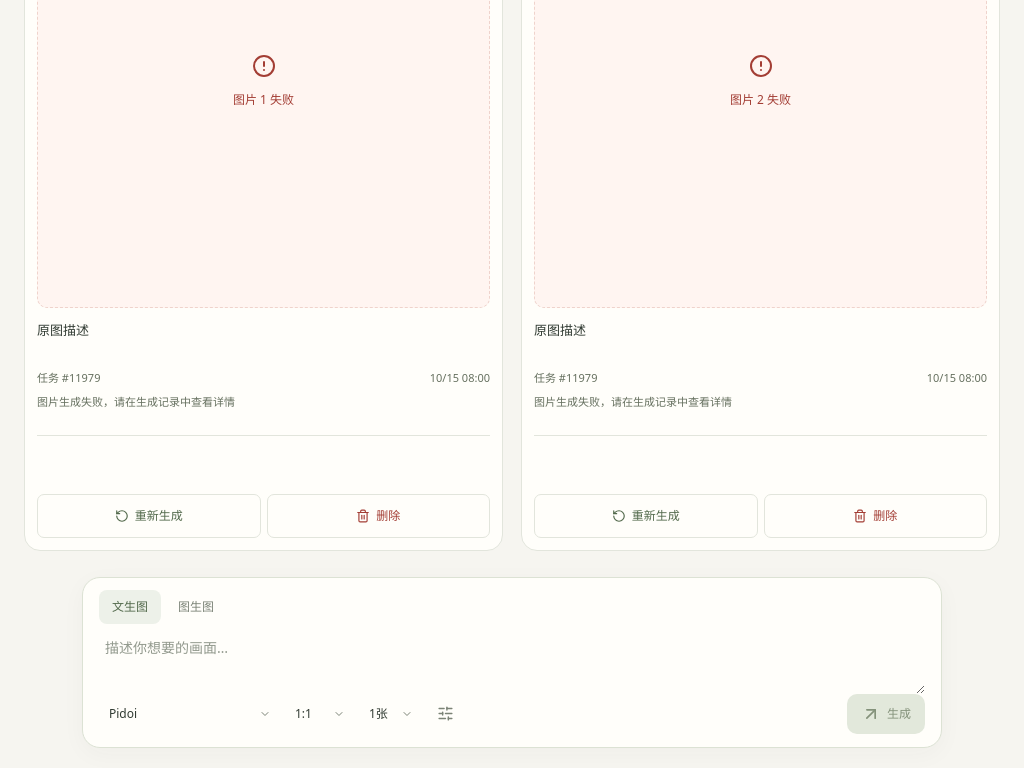
Test case: 图片记录操作 › removes deleted failures immediately and ignores an older list response
(page scrolled)
Click the 1st button "删除": (378, 516) [266,494,490,538]
(page scrolled)
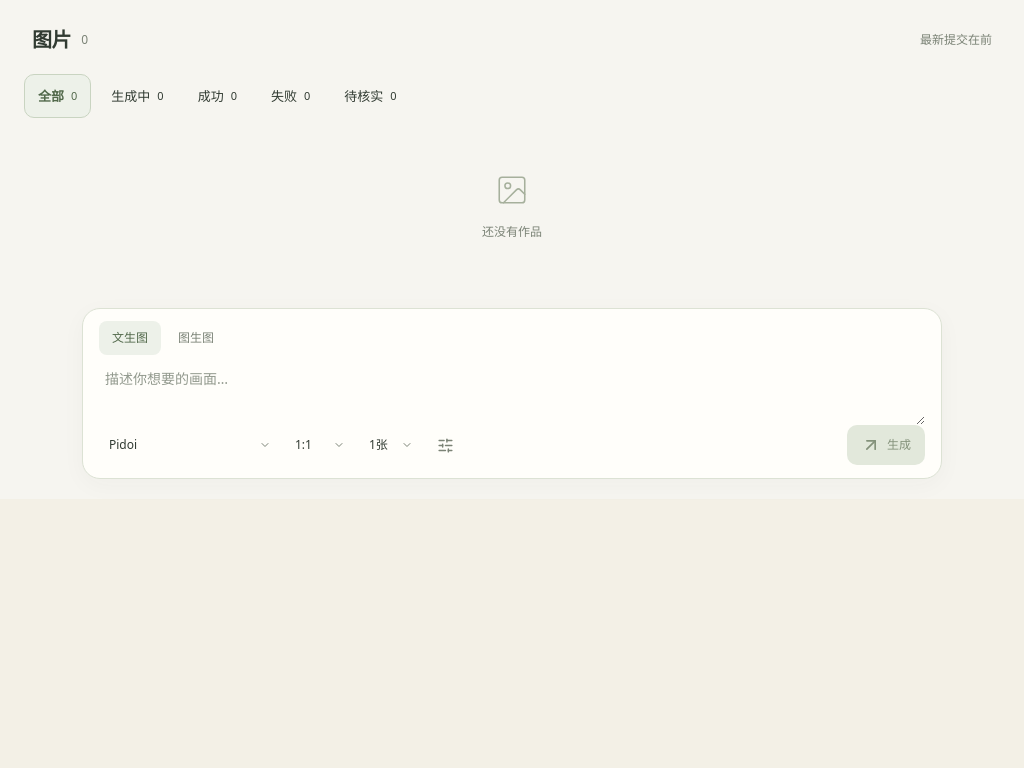
Check: the text "任务 #11979" is gone
